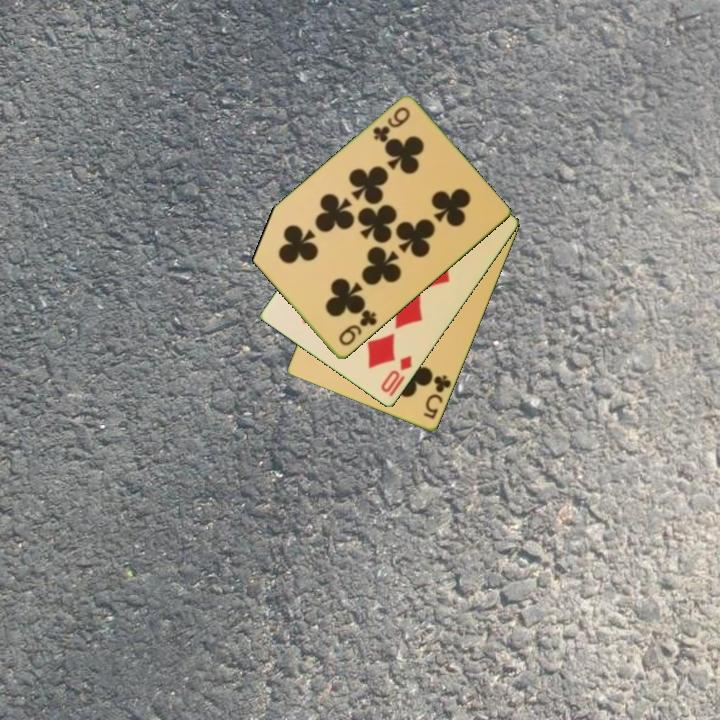10d: (377, 352, 415, 400)
5c: (420, 372, 454, 422)
9c: (335, 306, 380, 349), (369, 104, 413, 146)
